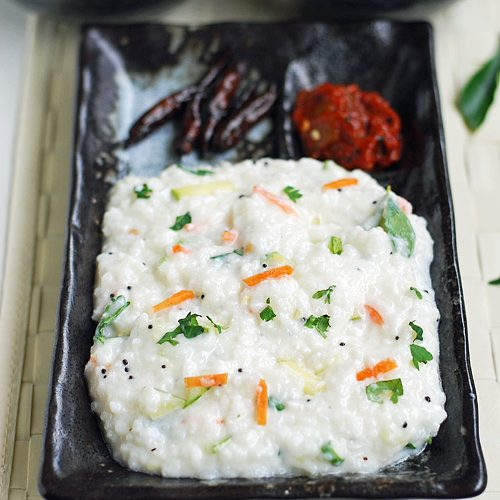curd_rice: (68, 150, 493, 483)
